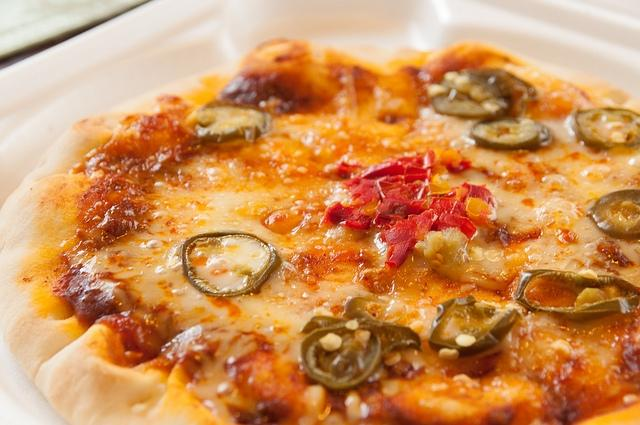bell pepper: (377, 210, 433, 246), (320, 202, 372, 230), (375, 194, 415, 226), (436, 212, 476, 240), (397, 146, 437, 170), (385, 238, 415, 268), (429, 197, 466, 220), (360, 161, 404, 180), (461, 182, 494, 207), (336, 159, 368, 180), (384, 184, 417, 201), (404, 164, 432, 184), (352, 188, 380, 208), (440, 148, 462, 168), (406, 200, 426, 218), (351, 181, 374, 196)
